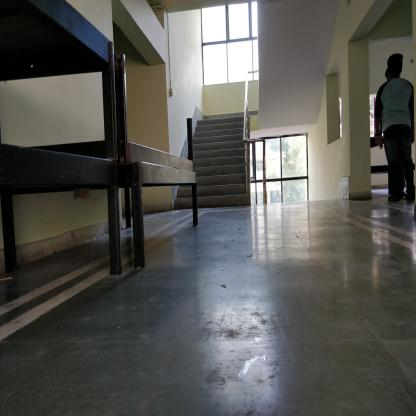stairs: (201, 119, 243, 211)
